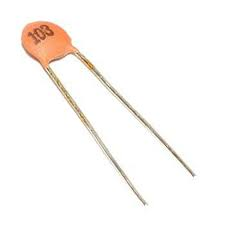ceramic capacitor: (12, 14, 96, 96)
